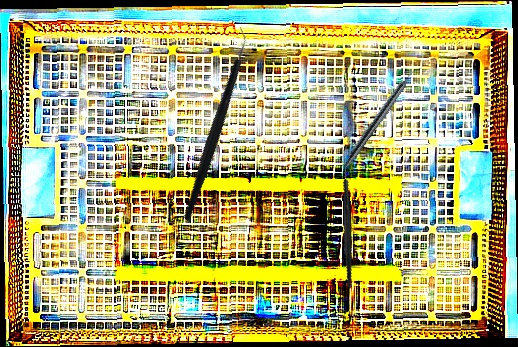Chopper: (123, 24, 304, 223), (300, 156, 389, 289)
Handpiece: (341, 62, 422, 171)
